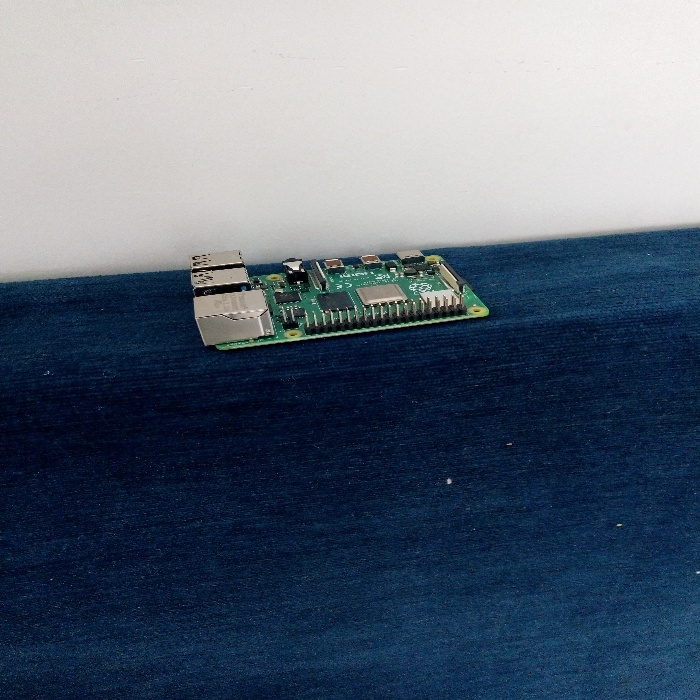raspberry: (170, 234, 499, 336)
